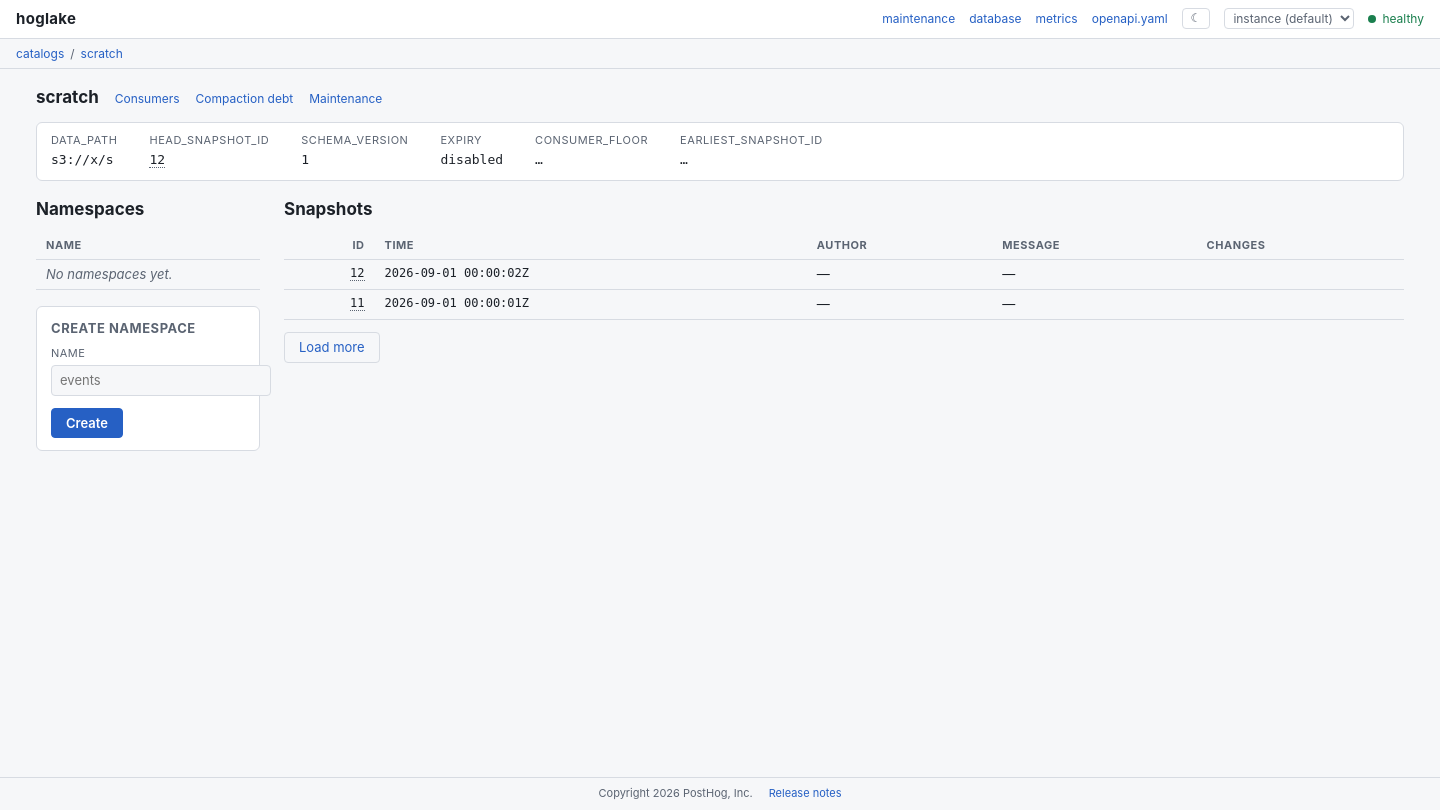
Test: snapshot timeline pagination › pages older with the last id as the next before cursor, stopping on has_more=false
Step 1. Click the button "Load more" → (332, 347), box [284, 332, 380, 363]
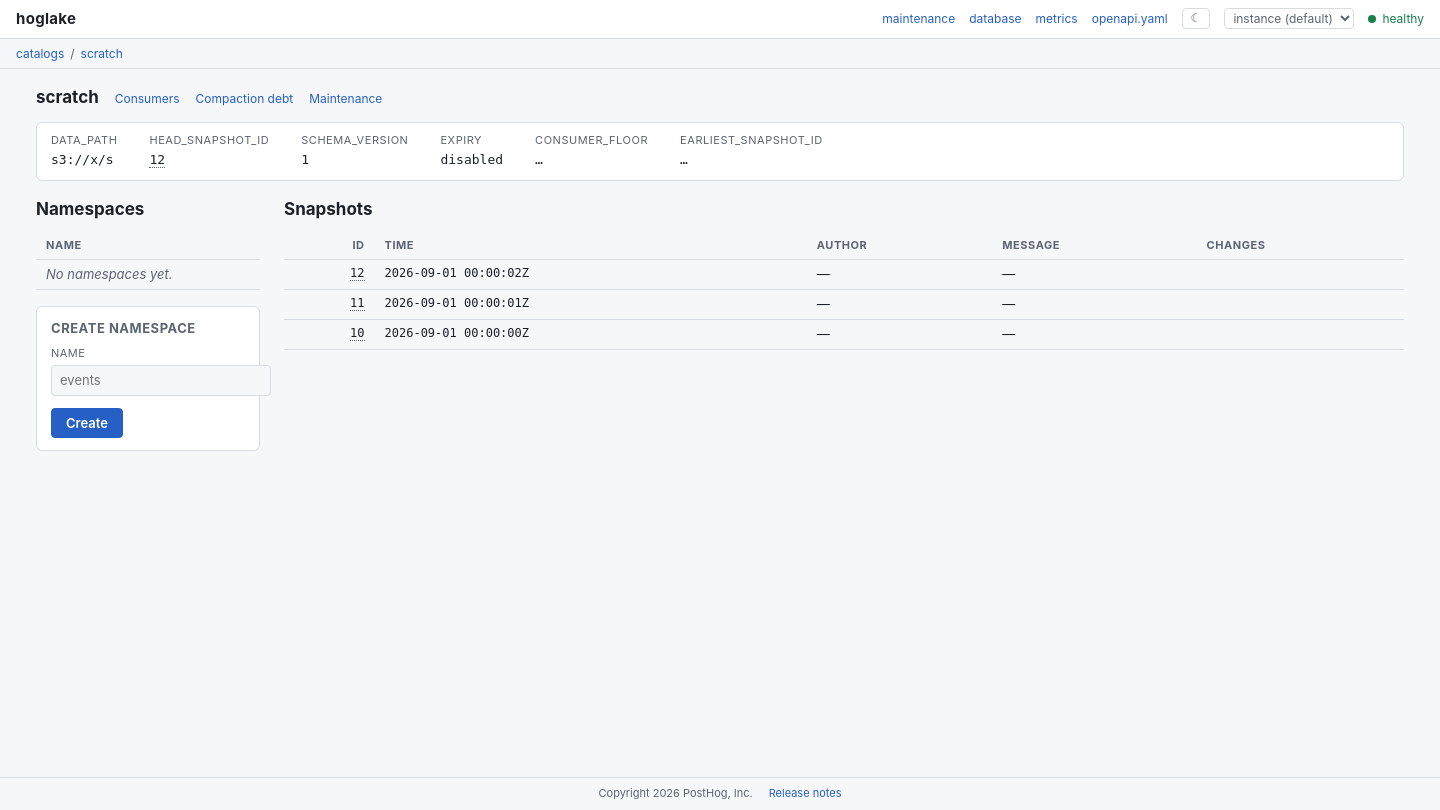
Result: the text "10" is shown at [350, 326, 365, 341]
Result: the button "Load more" is gone
